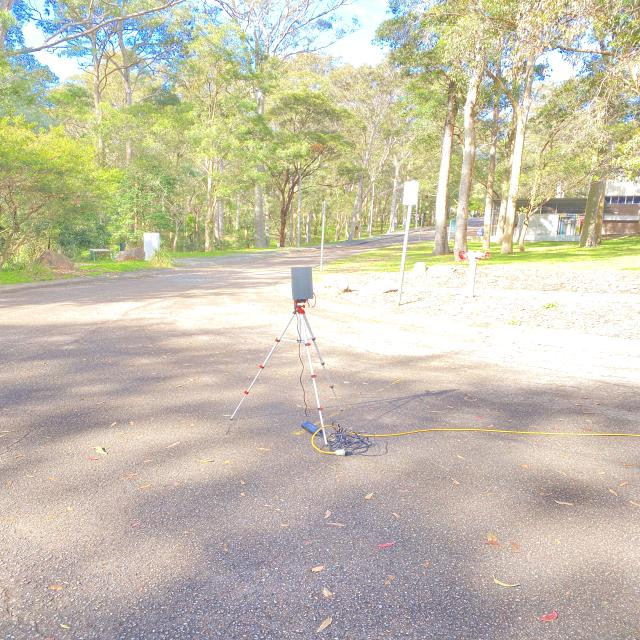matrix: (285, 263, 325, 305)
